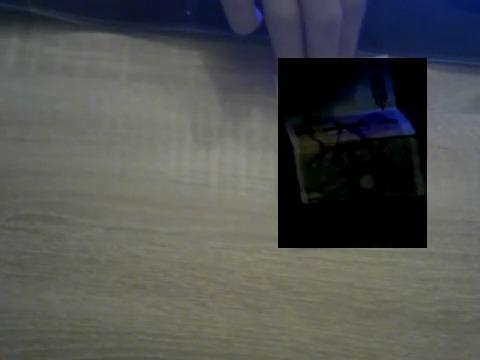10leva: (278, 58, 427, 248)
